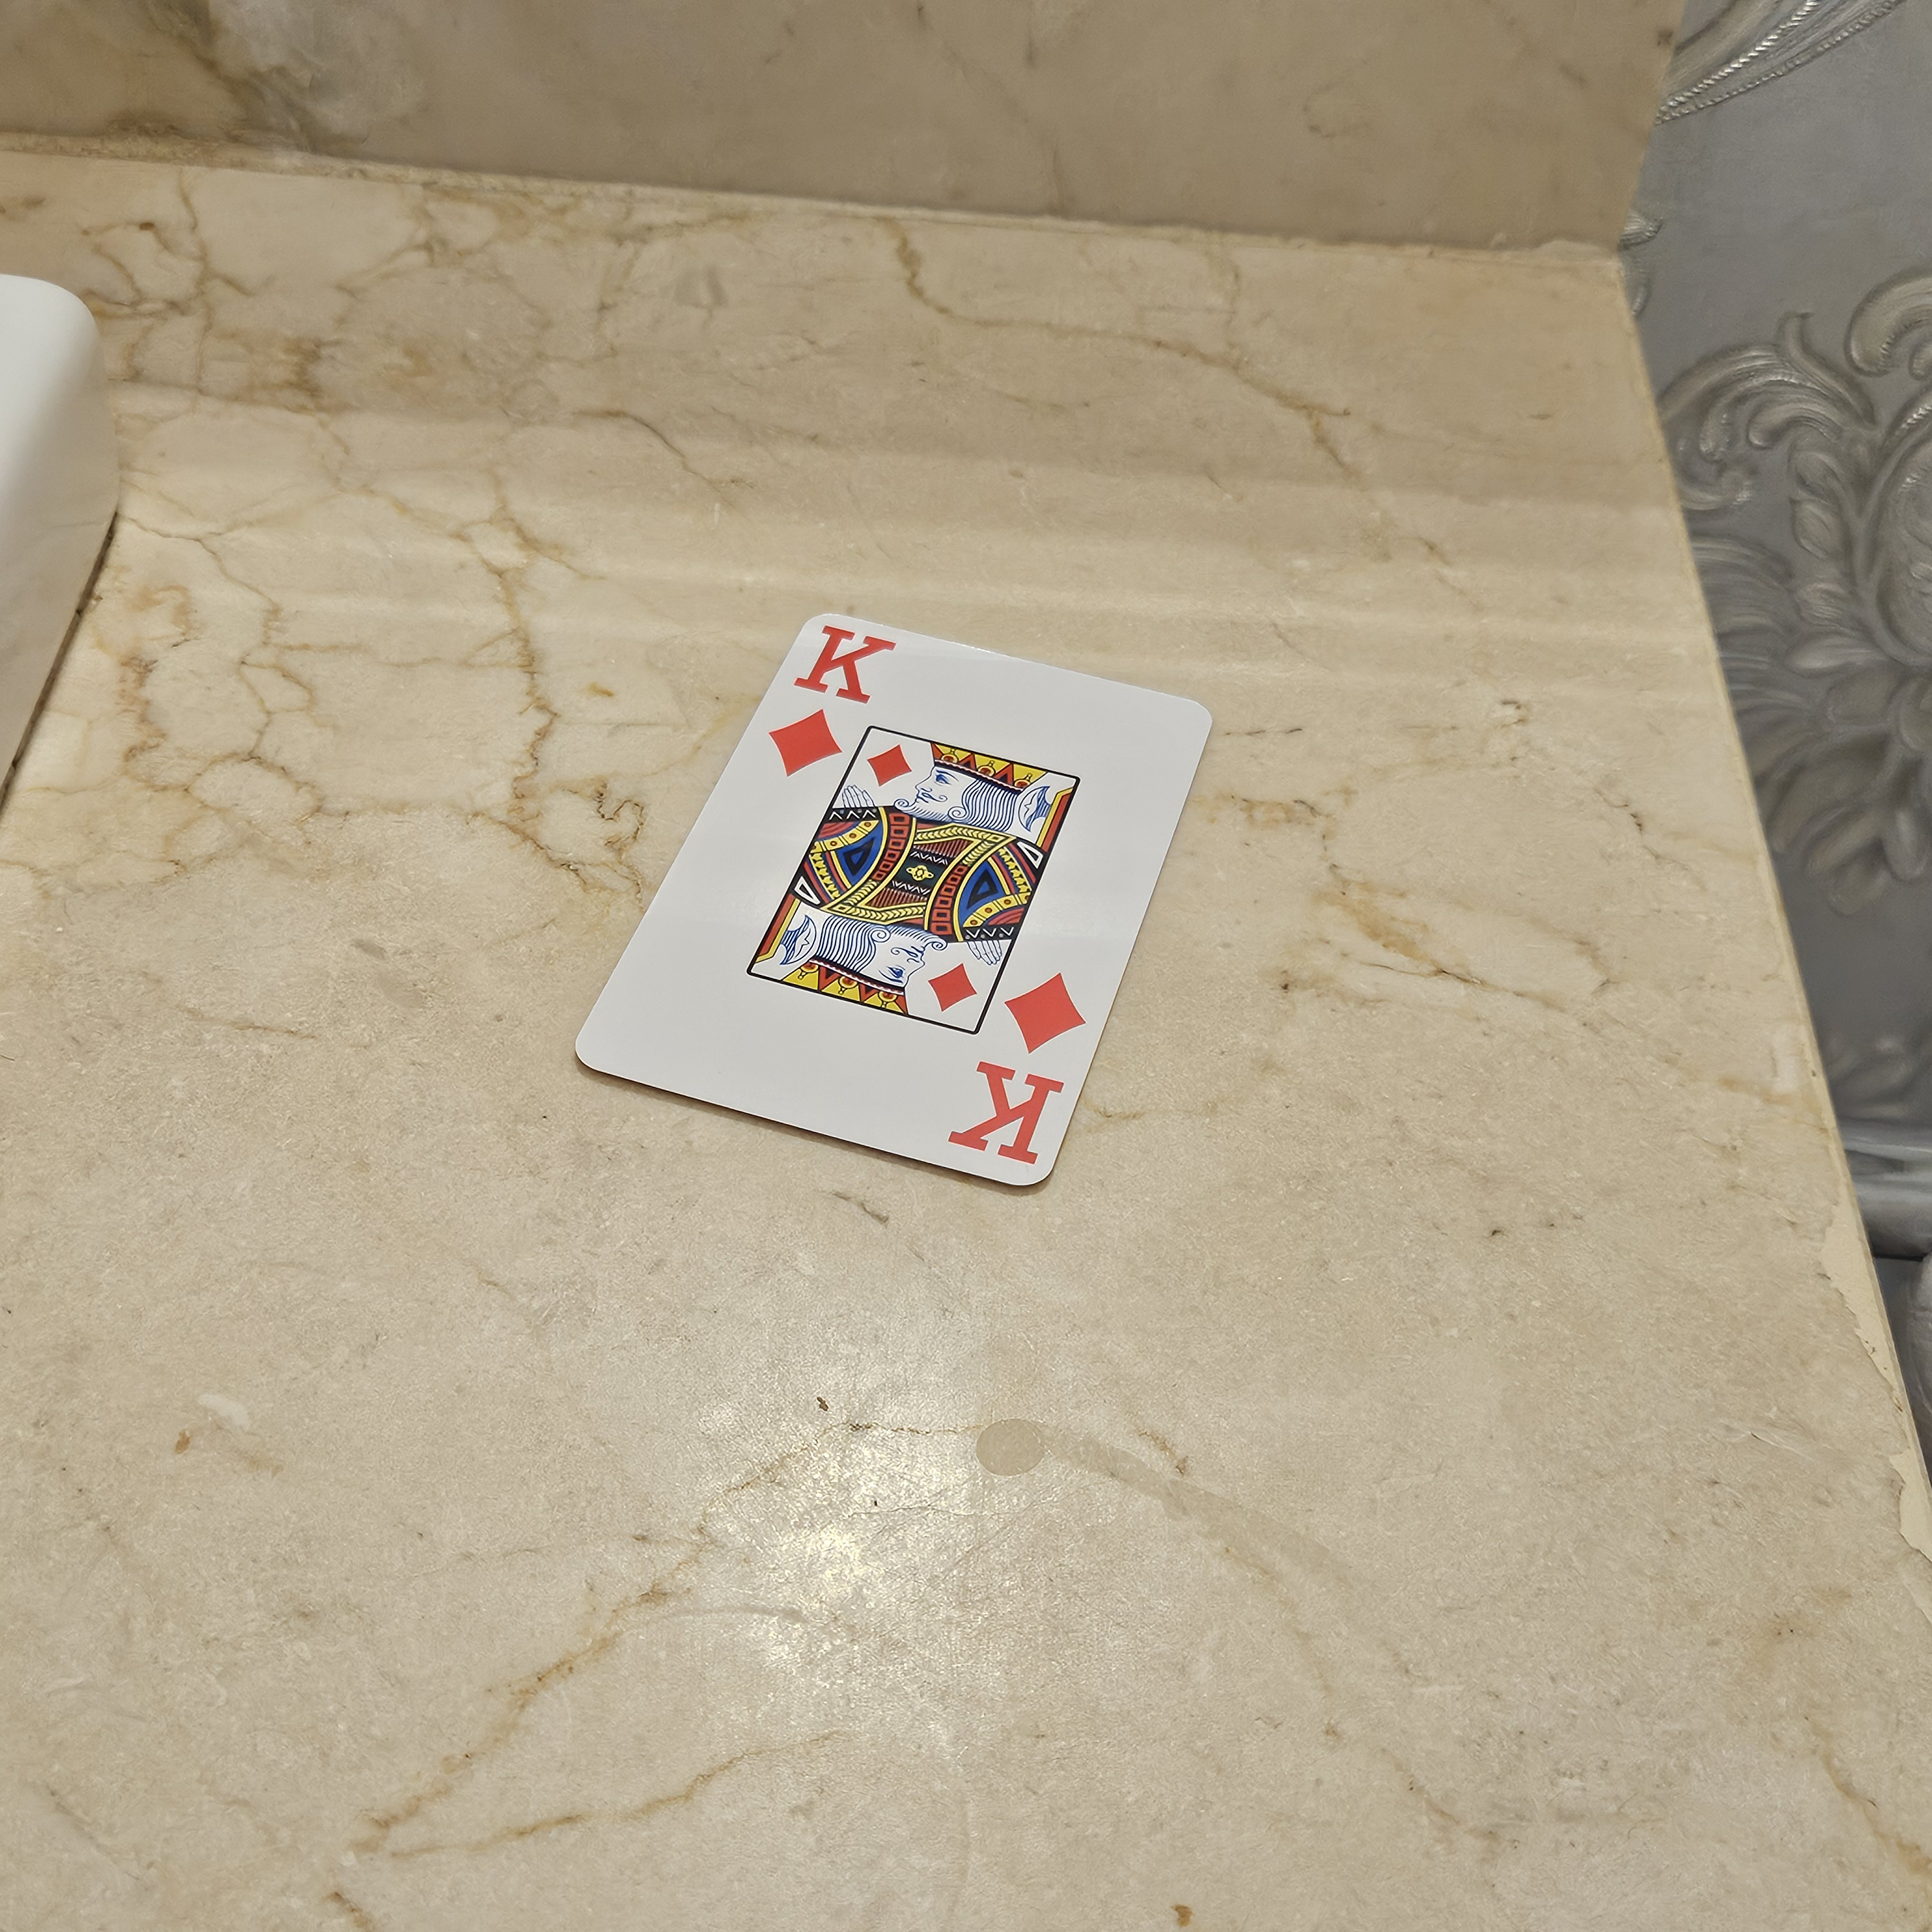KO: (945, 968, 1099, 1189), (752, 612, 899, 787)
